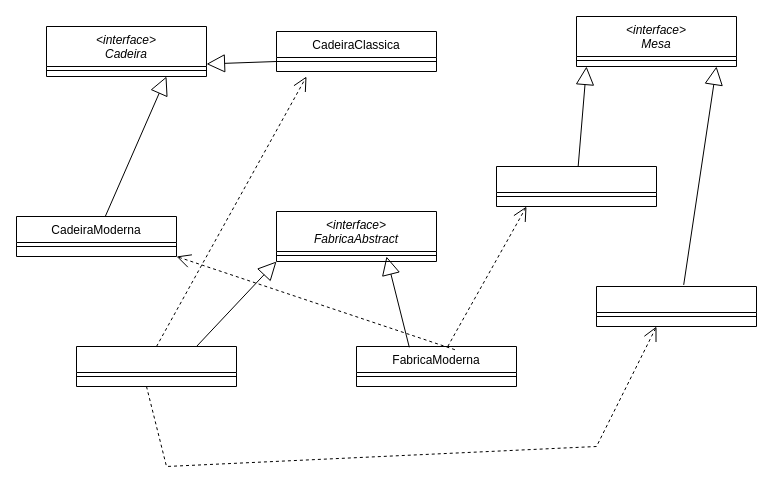
This 773x483 diagram has some shape labels left out. The shapes that lost their labels are listed below. From the top down, each one's centre as x and y in pixels, then its label:
At (576,186): "MesaModerna".
At (676,306): "MesaClassica".
At (156,366): "FabricaClassica".
